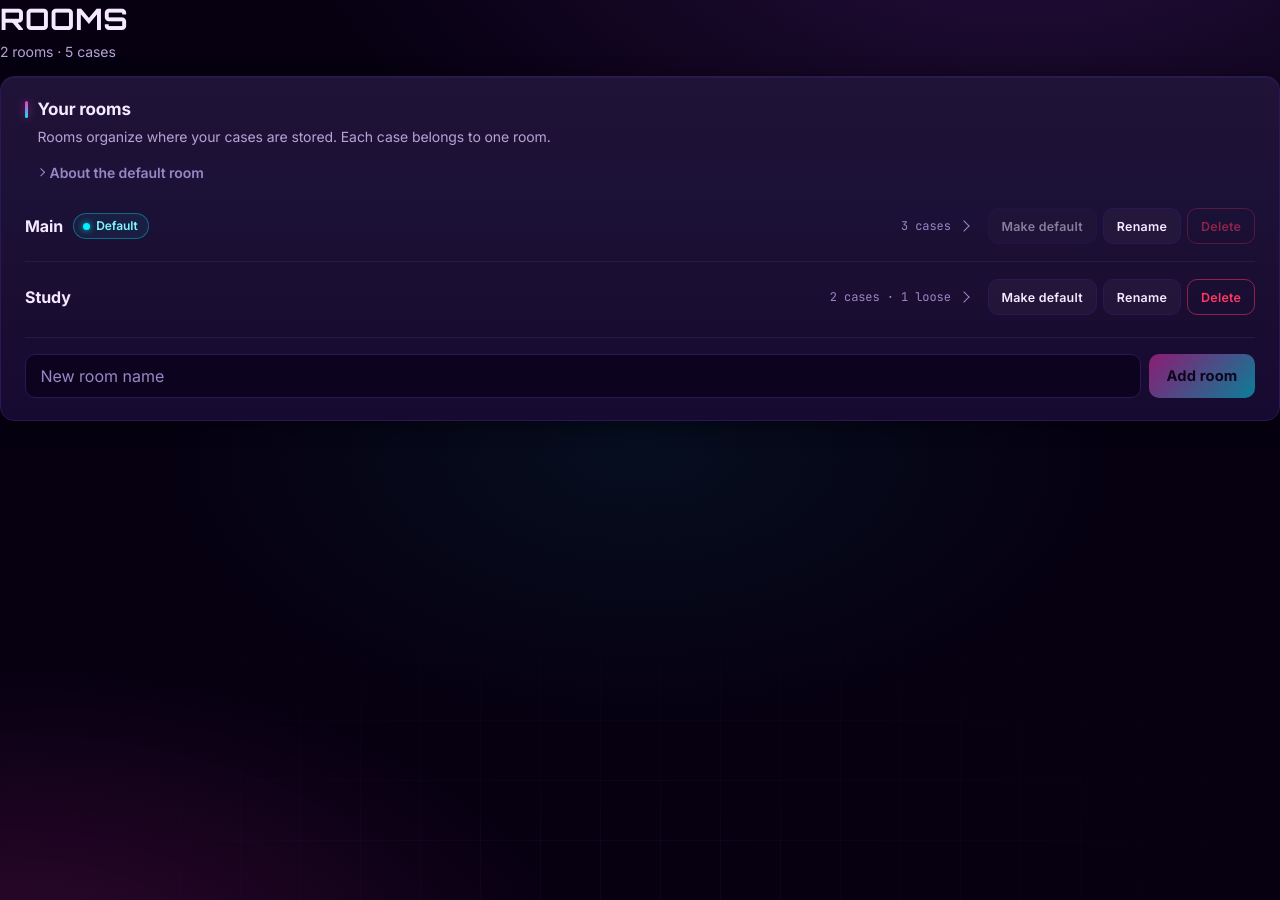
it: RoomsPage › asks in the app before deleting, naming where the contents go — and Cancel deletes nothing
Step 1. Click the button named "Delete Study" → (1221, 297), box [1187, 279, 1255, 315]
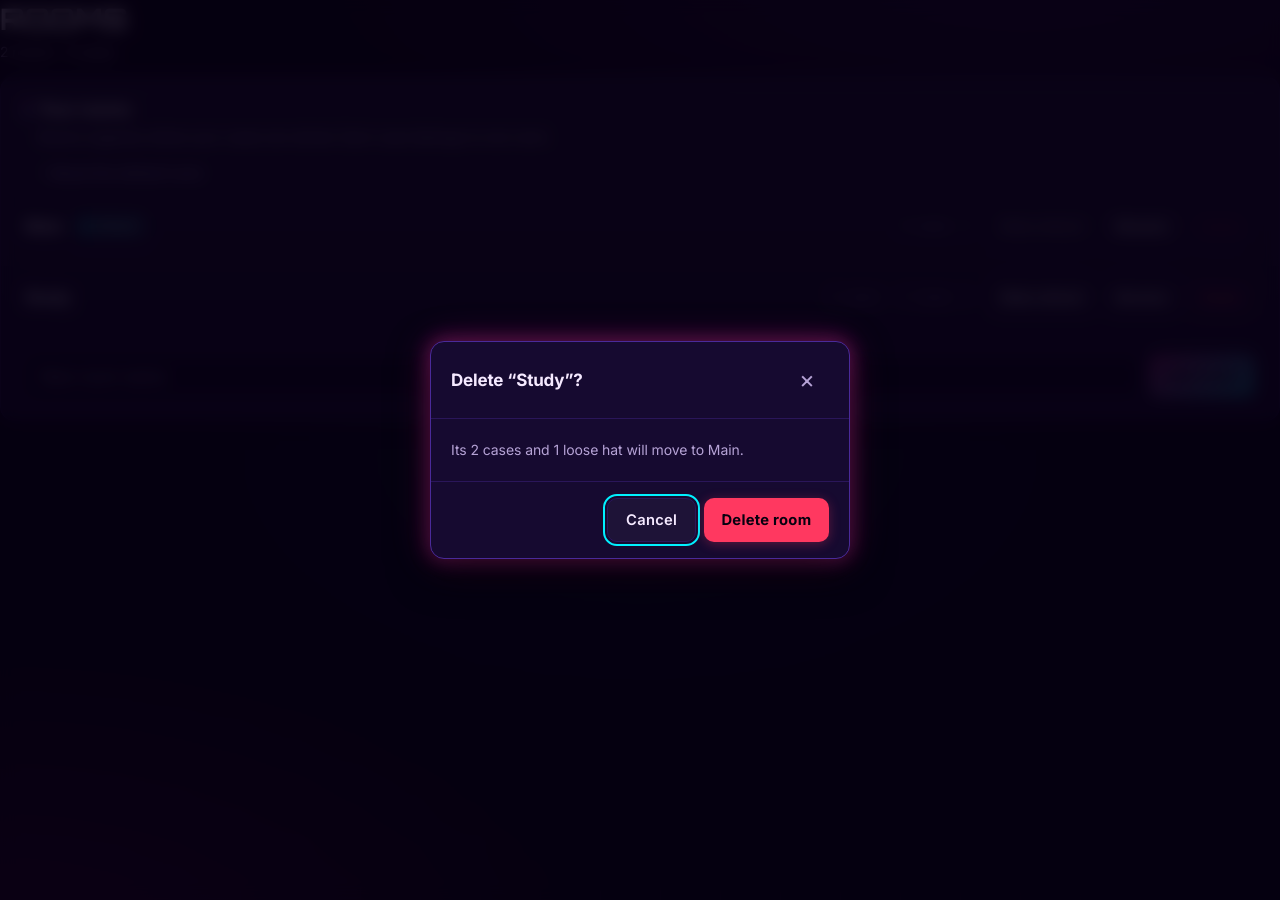
Expected: the heading "Delete “Study”?" is shown, [451, 370, 583, 390]
Expected: the text "Its 2 cases and 1 loose hat will move to Main." is shown, [451, 441, 744, 458]
Step 2. Click the button "Cancel" → (652, 520), box [607, 498, 696, 542]
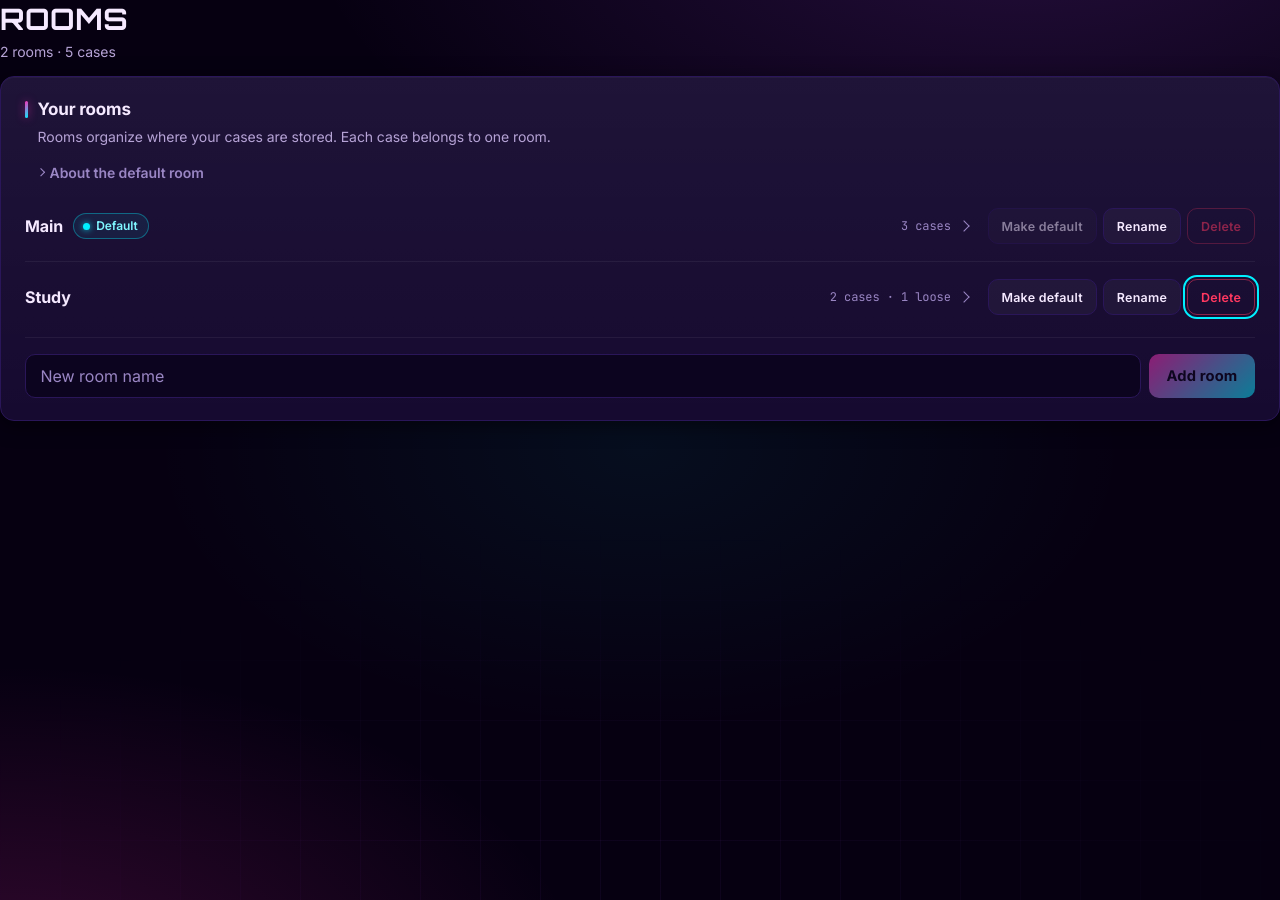
Expected: the dialog is gone
